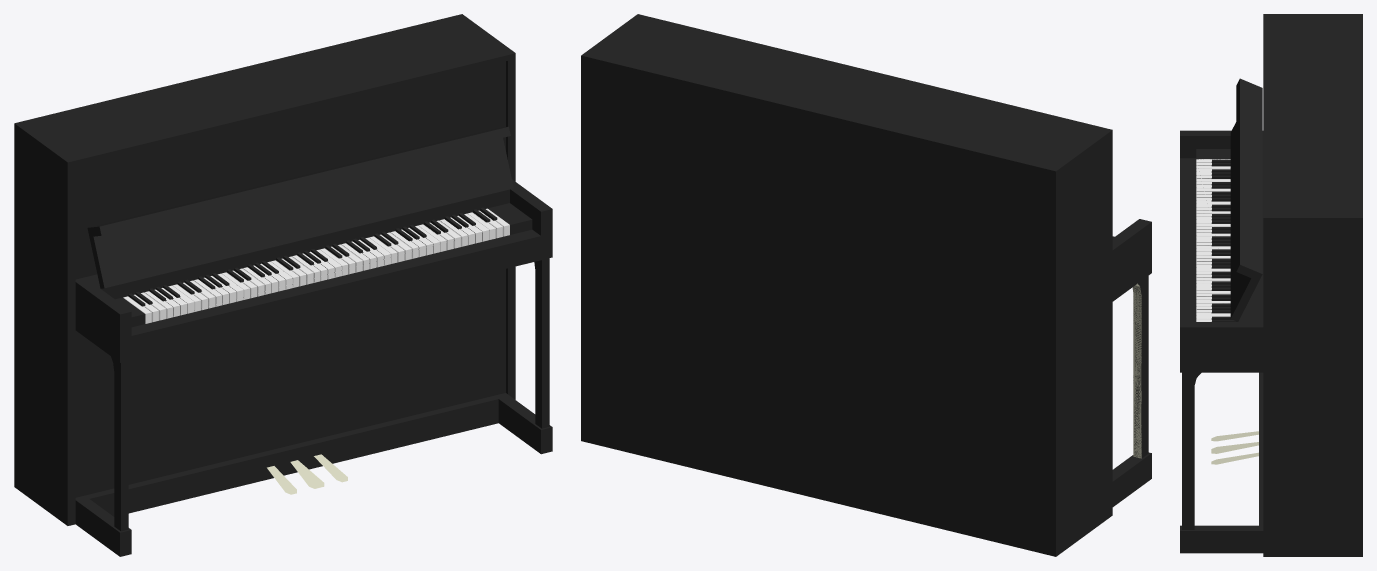
3 renders of one model, left to right at view 1: azimuth 30°, elevation 25°; view 2: azimuth 150°, elevation 25°; view 3: azimuth 270°, elevation 25°, orthographic. The views are drawn at different scales.
Visible parts, largest first — view 1: Piano_Half (×4), group_0, keys; view 2: Piano_Half (×4); view 3: Piano_Half (×4), group_0, keys.
Part boxes in pixels (box(x1,y1,x2,y2)): Piano_Half (×4): box(14, 14, 552, 556); group_0: box(87, 126, 513, 288); keys: box(123, 208, 509, 323); Piano_Half (×4): box(581, 14, 1151, 556); Piano_Half (×4): box(1180, 14, 1362, 556); group_0: box(1230, 78, 1262, 321); keys: box(1196, 159, 1230, 321).
Bounding box in the file's own units: 58 × 22 × 45.
Materials: 3 (1 with a texture image).
